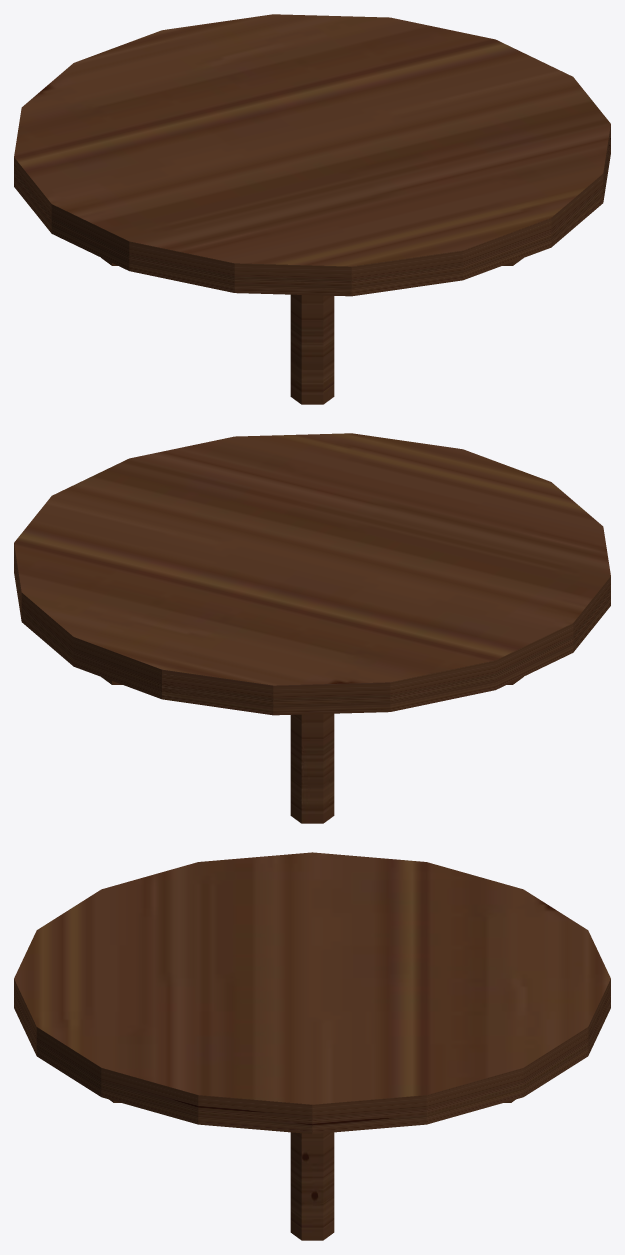
File: low_table.glb
3 renders of one model, top to bottom at view 1: azimuth 30°, elevation 25°; view 2: azimuth 150°, elevation 25°; view 3: azimuth 270°, elevation 25°, orthographic.
Visible parts, largest first — view 1: Low_Table; view 2: Low_Table; view 3: Low_Table.
Boxes of the visible parts, x1,y1,x2,y2 form: Low_Table: [14, 14, 610, 404]; Low_Table: [14, 433, 610, 823]; Low_Table: [14, 852, 610, 1240].
Size of the model in its own units: 1.1 by 0.33 by 1.1.
1 material, 1 textured.
